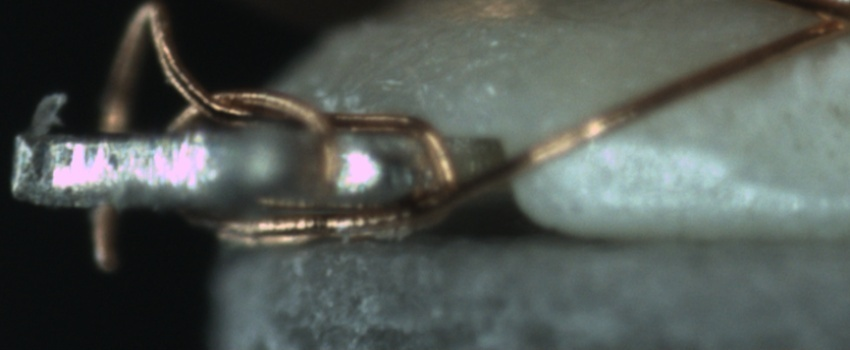CL: (790, 0, 850, 46)
TE: (40, 39, 439, 259)
